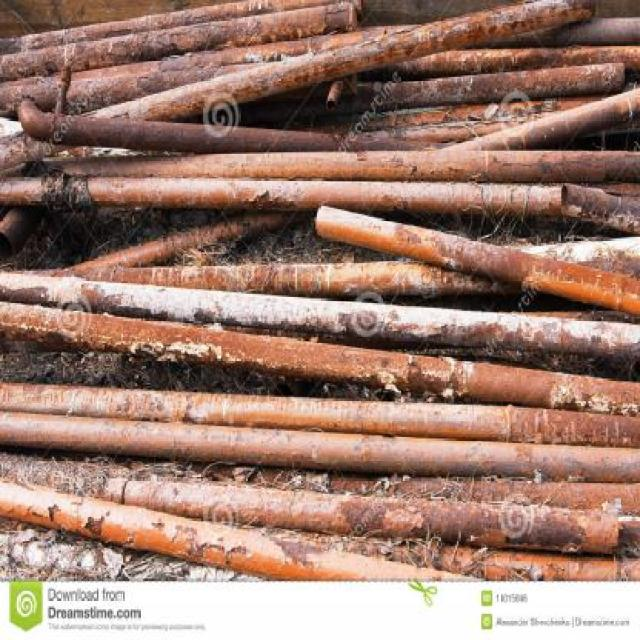corrosion: (1, 4, 640, 578)
